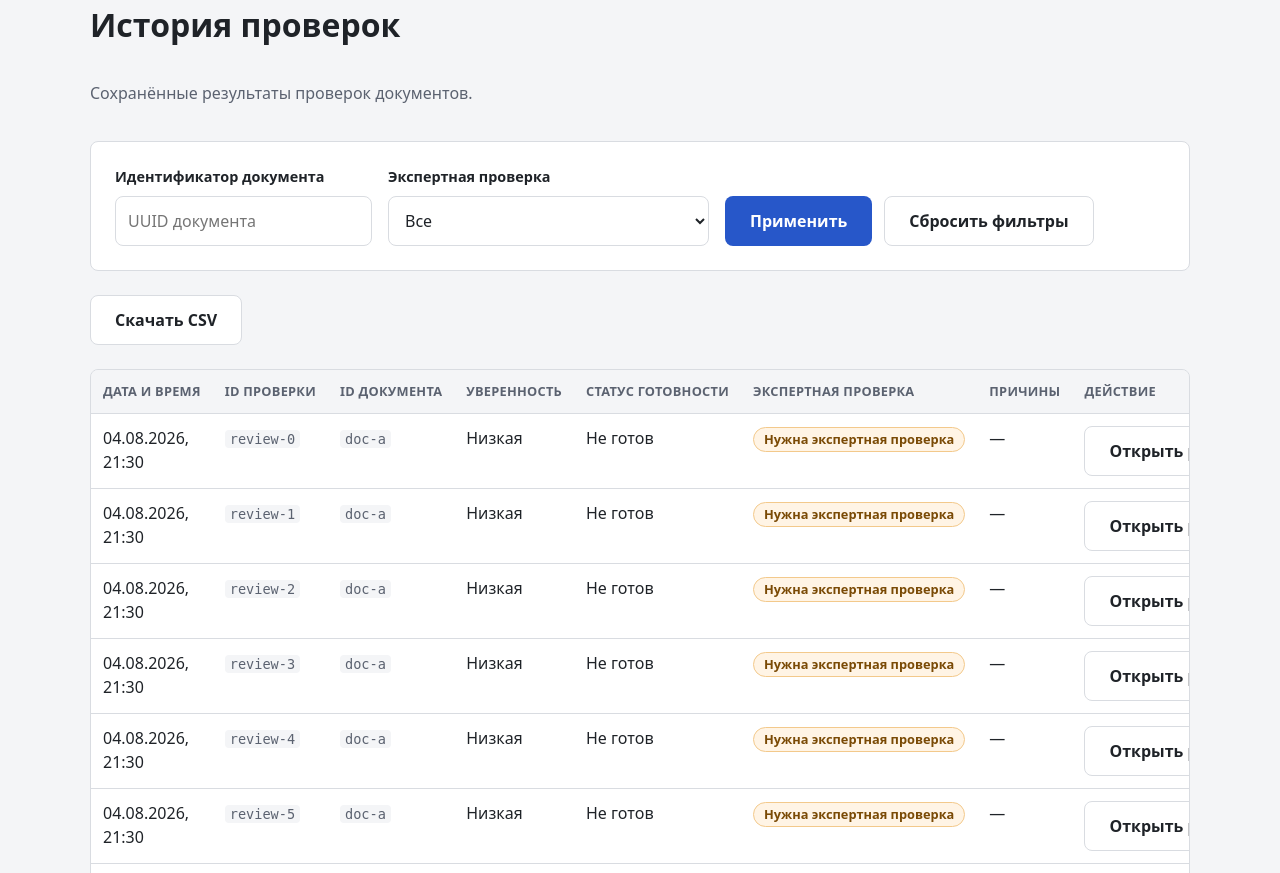
Test: ReviewsDashboardPage › «Сбросить фильтры» очищает document_id/needs_review и offset, новый URL не содержит старых параметров
The width and height of the screenshot is (1280, 873).
Type "doc-a" into the field labelled "Идентификатор документа". click: x=244, y=221
box: x1=115 y1=196 x2=372 y2=246
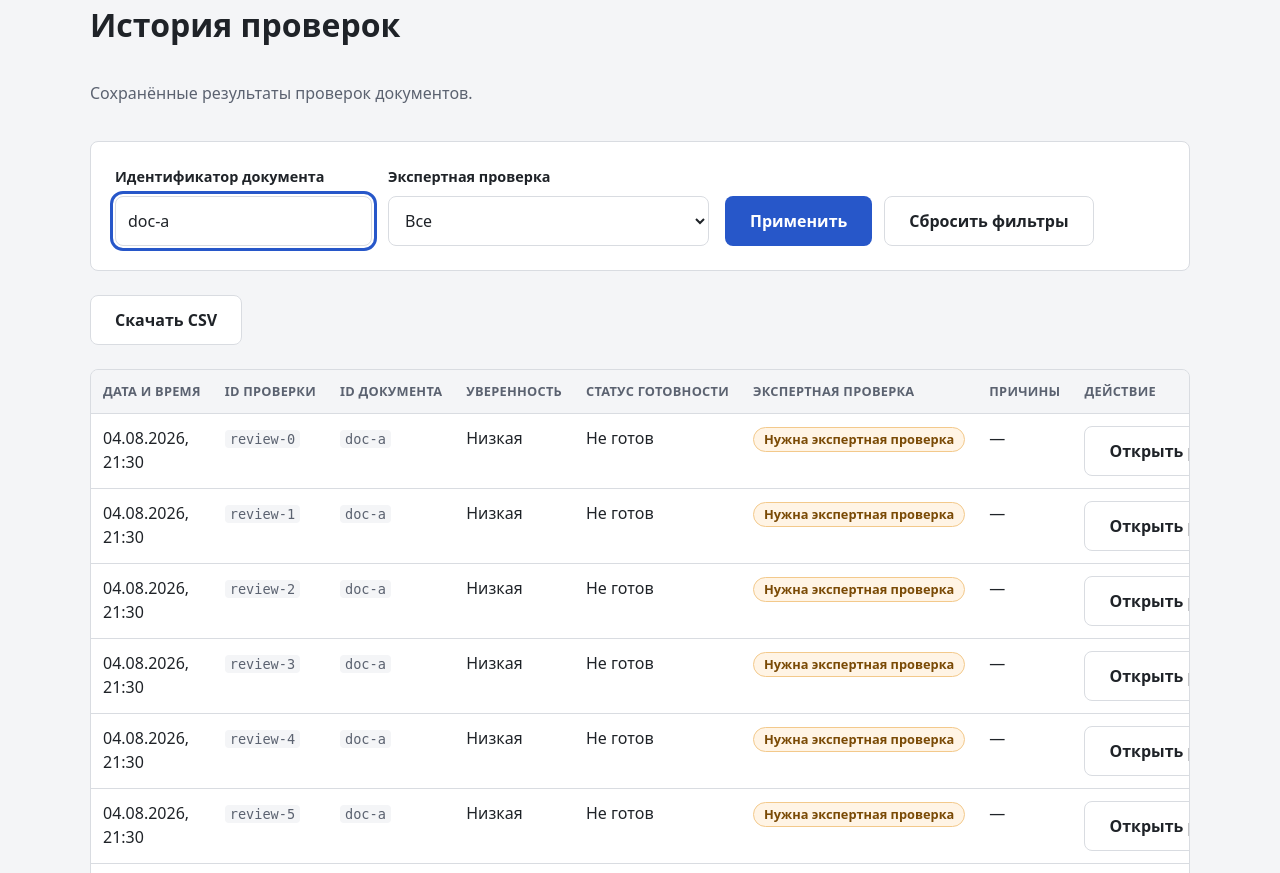
Select "Нужна экспертная проверка" in the dropdown labelled "Экспертная проверка". click: x=548, y=221
box: x1=388 y1=196 x2=709 y2=246
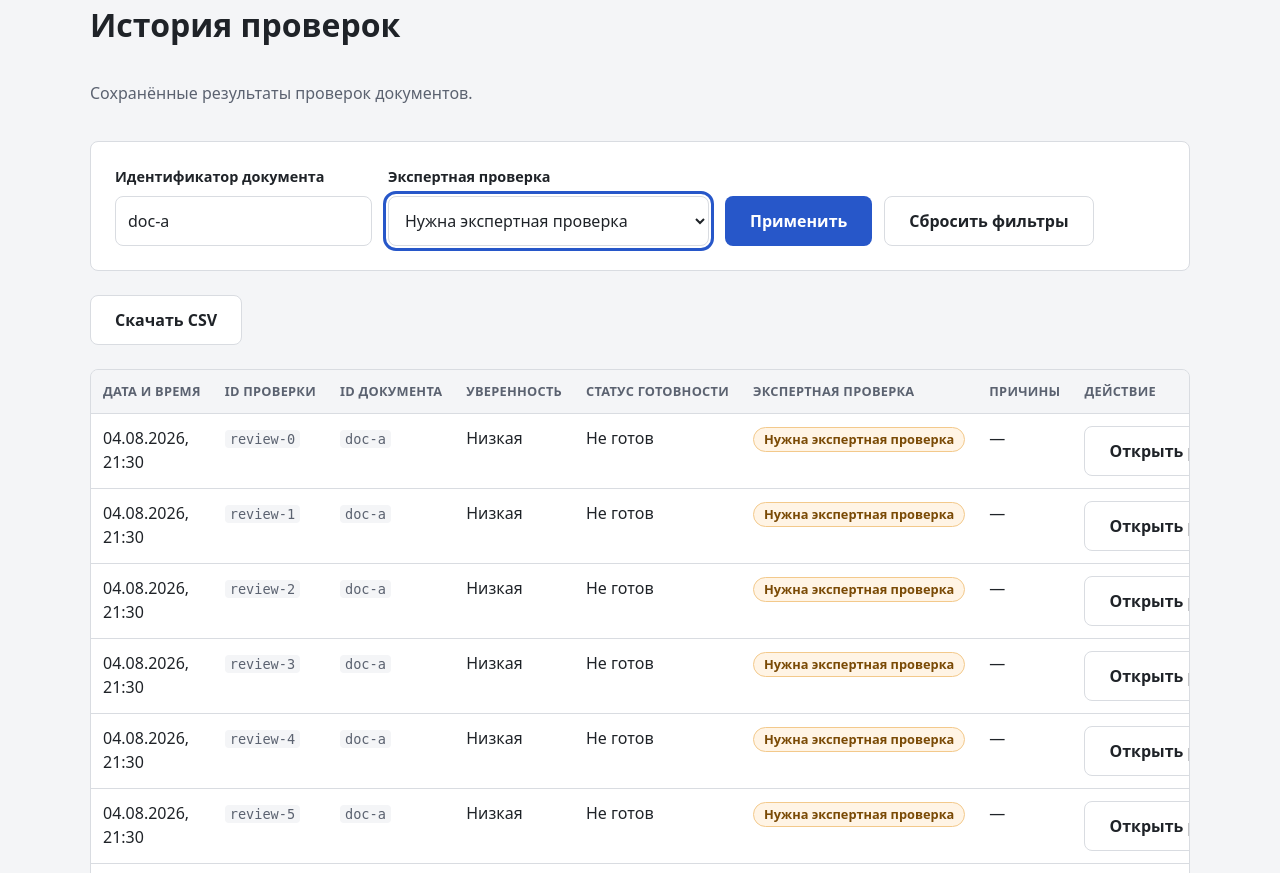
Click the button "Применить". click: x=799, y=221
box: x1=725 y1=196 x2=872 y2=246
(page scrolled)
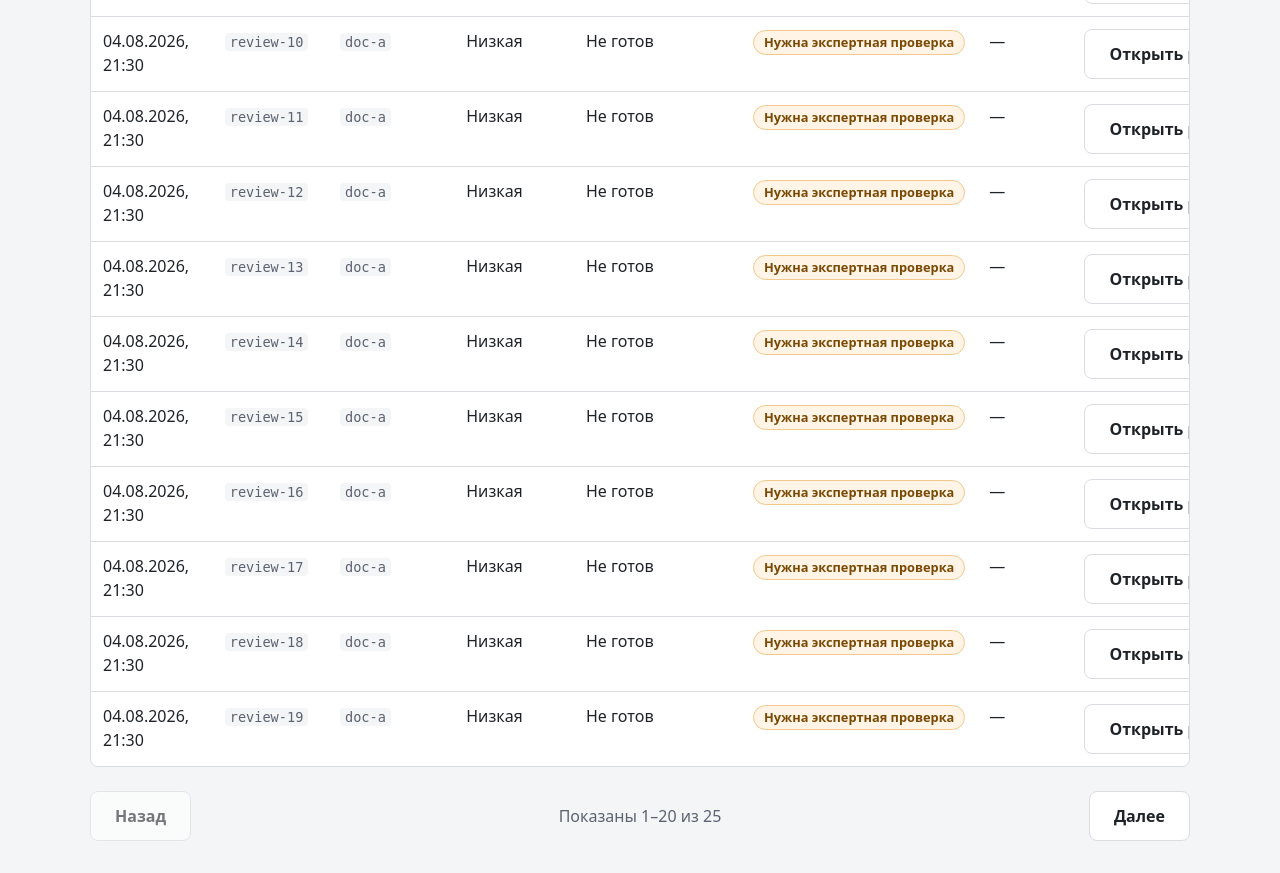
Click the button "Далее". click: x=1139, y=816
box: x1=1089 y1=791 x2=1190 y2=841
(page scrolled)
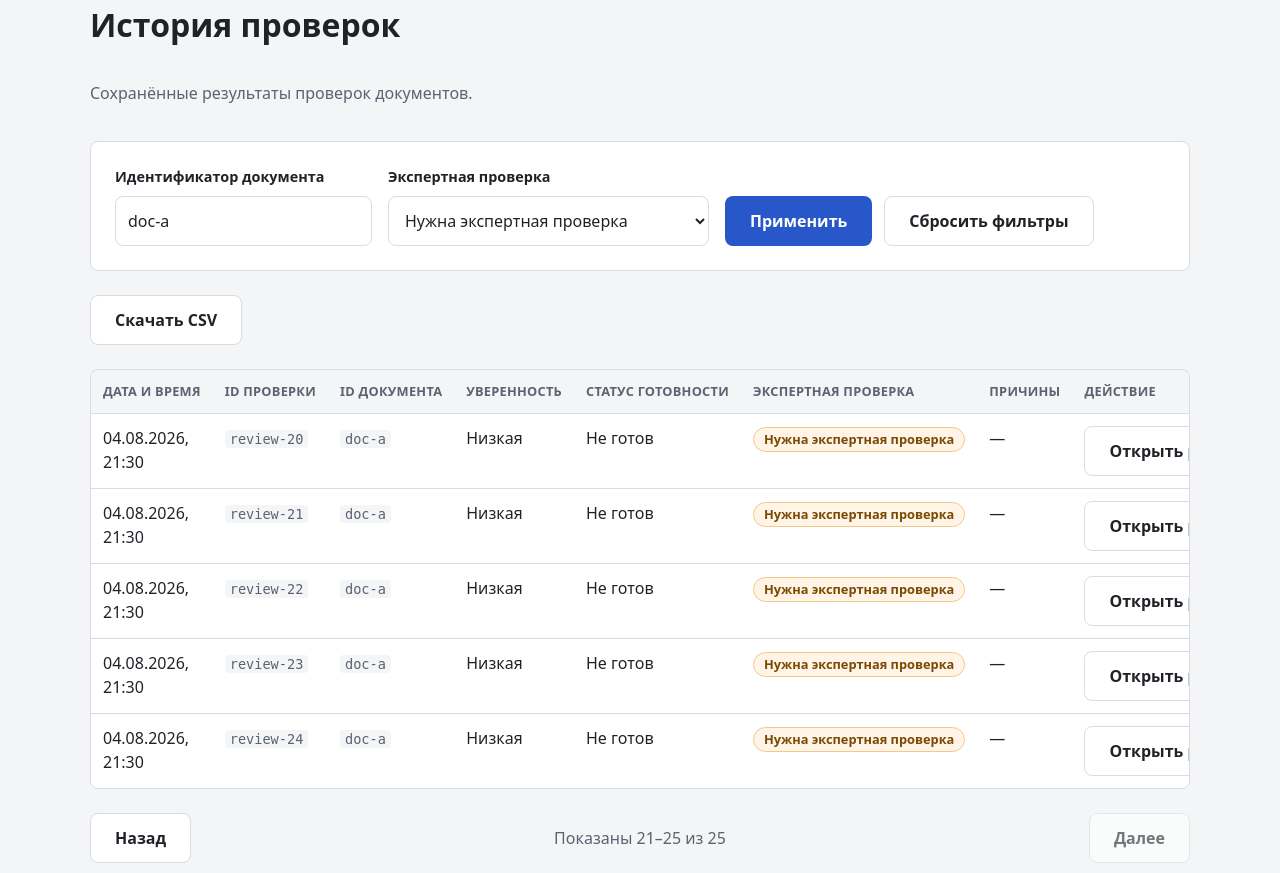
Expected: the text "doc-a" next to "review-20" is shown, x1=345 y1=431 x2=386 y2=447
Now the text "Показаны 21–25 из 25" is shown, box x1=554 y1=826 x2=726 y2=850
Click the button "Сбросить фильтры". click: x=989, y=221
box: x1=884 y1=196 x2=1094 y2=246
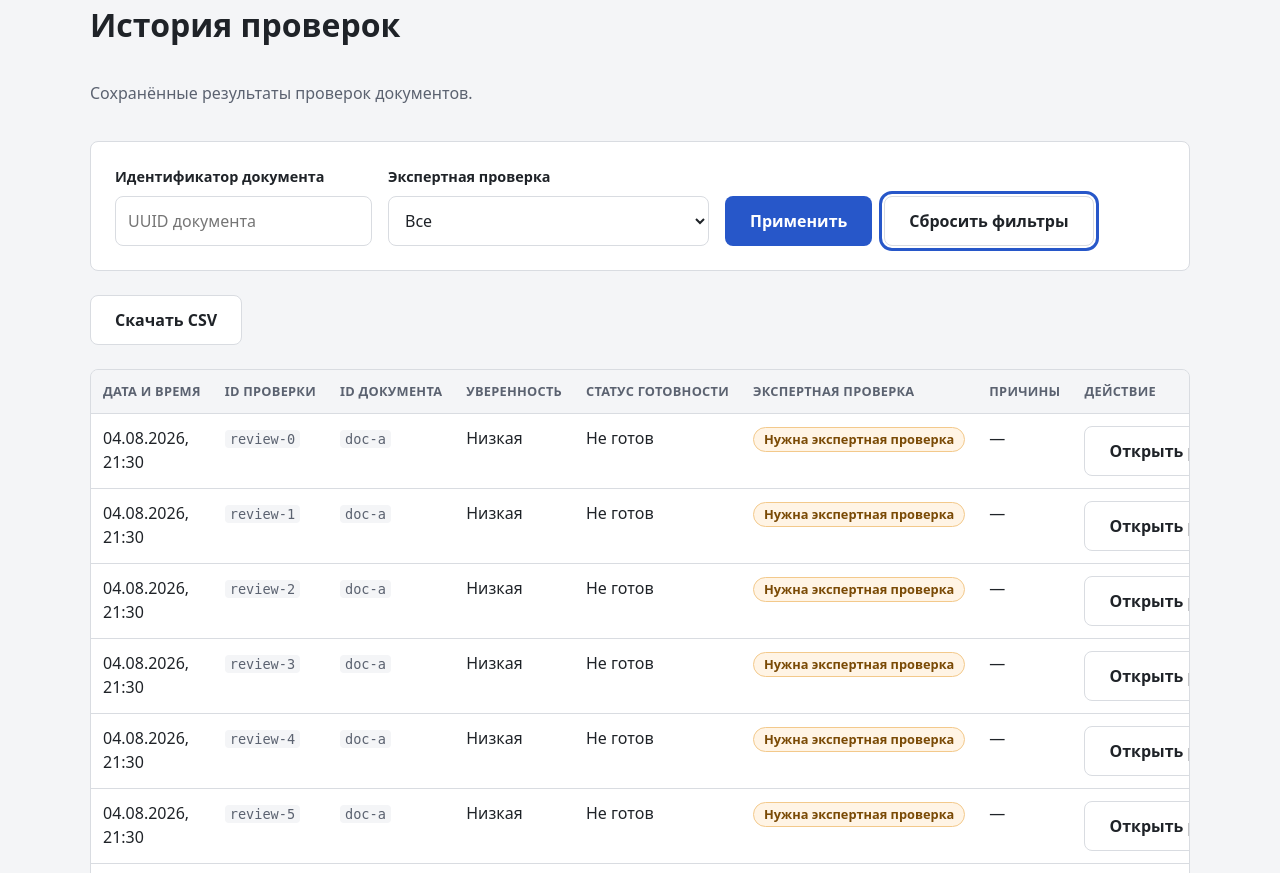
Now the field labelled "Идентификатор документа" is empty, box x1=115 y1=196 x2=372 y2=246
